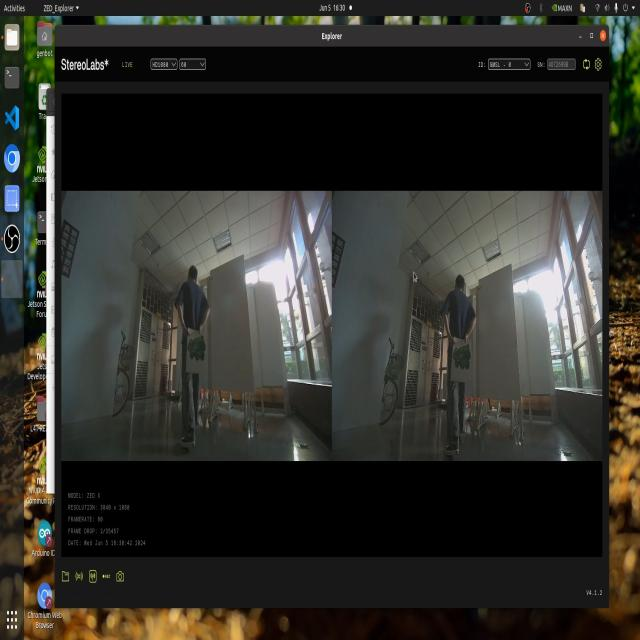green: (453, 341, 472, 377), (189, 326, 208, 361)
